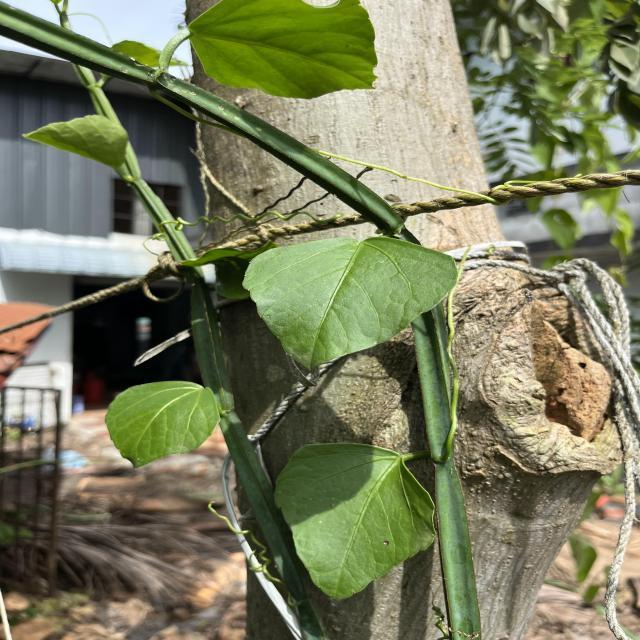Cissus quadrangularis: (238, 232, 461, 376), (272, 438, 444, 602)
